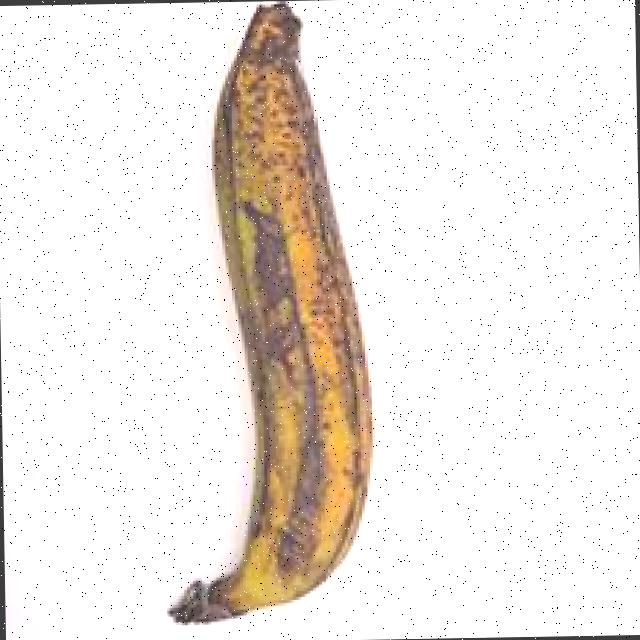Overripe: (127, 0, 425, 634)
